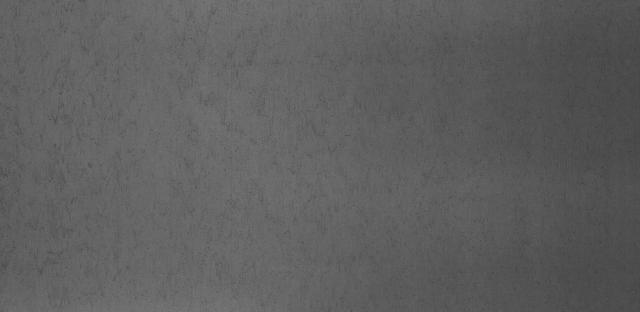silk_spot: (166, 23, 469, 196)
